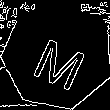M_NE: (26, 23, 89, 88)
